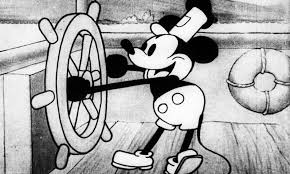mickey: (65, 1, 219, 174)
